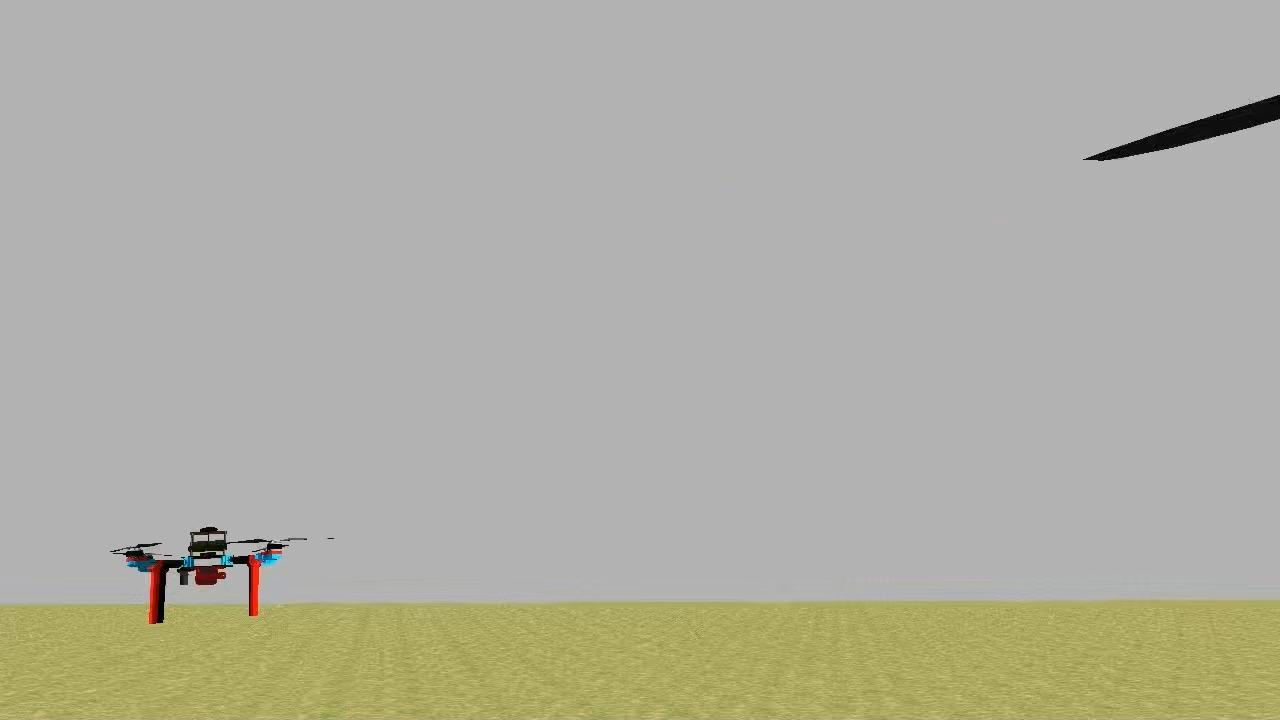UAV: (110, 518, 301, 633)
